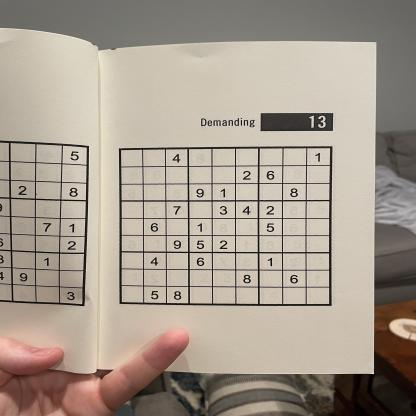sudoku: (115, 142, 338, 310)
